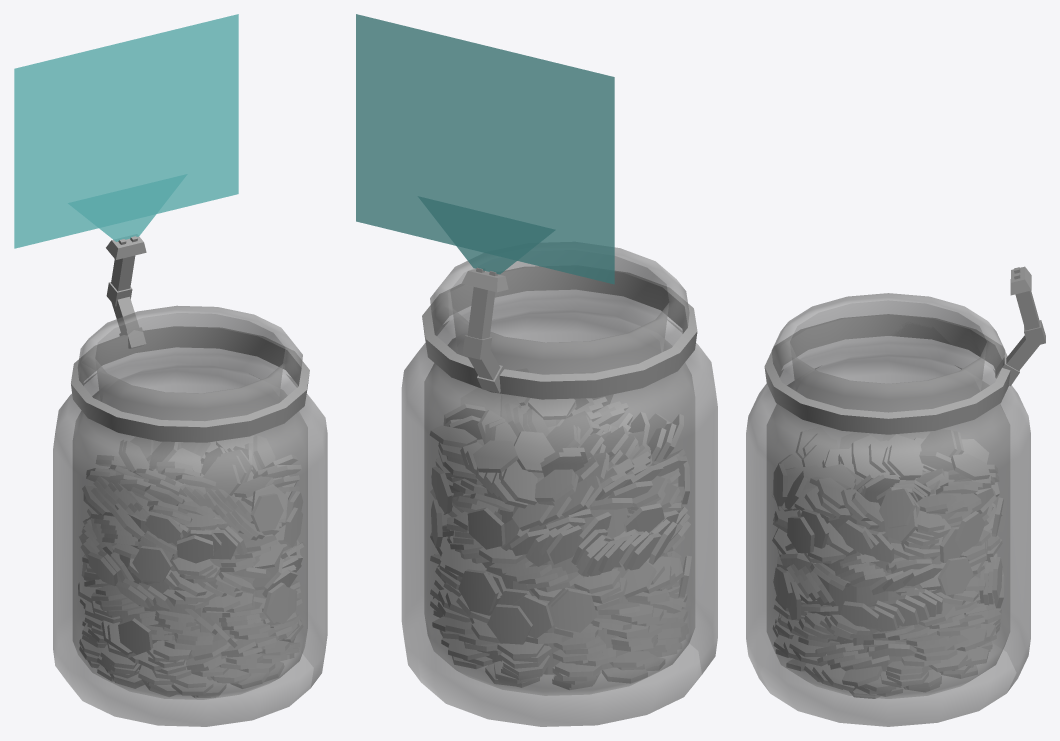
File: UI_TipJar_Medium_001_v001_20202210.fbx
3 views of the same model, side by side, from view 1: azimuth 30°, elevation 25°; view 2: azimuth 150°, elevation 25°; view 3: azimuth 270°, elevation 25° (orthographic). The views are drawn at different scales.
Parts seen in each view (by area): view 1: UI_TipJar_Medium_001_v001, UI_CoinPile_Small_005_v001, UI_CoinPile_Small_004_v001, UI_CoinPile_Small_003_v001, UI_CoinPile_Small_002_v001, UI_CoinPile_Small_001_v001; view 2: UI_TipJar_Medium_001_v001, UI_CoinPile_Small_005_v001, UI_CoinPile_Small_003_v001, UI_CoinPile_Small_004_v001, UI_CoinPile_Small_001_v001, UI_CoinPile_Small_002_v001; view 3: UI_TipJar_Medium_001_v001, UI_CoinPile_Small_005_v001, UI_CoinPile_Small_004_v001, UI_CoinPile_Small_003_v001, UI_CoinPile_Small_002_v001.
Part boxes in pixels (x1,y1,x2,y2): UI_TipJar_Medium_001_v001: [14, 14, 327, 726]; UI_CoinPile_Small_005_v001: [78, 435, 302, 697]; UI_CoinPile_Small_004_v001: [83, 512, 304, 696]; UI_CoinPile_Small_003_v001: [79, 520, 305, 697]; UI_CoinPile_Small_002_v001: [78, 587, 302, 695]; UI_CoinPile_Small_001_v001: [79, 607, 297, 697]; UI_TipJar_Medium_001_v001: [356, 14, 717, 726]; UI_CoinPile_Small_005_v001: [430, 368, 690, 687]; UI_CoinPile_Small_003_v001: [430, 483, 691, 688]; UI_CoinPile_Small_004_v001: [431, 412, 688, 689]; UI_CoinPile_Small_001_v001: [439, 612, 687, 689]; UI_CoinPile_Small_002_v001: [430, 554, 687, 680]; UI_TipJar_Medium_001_v001: [746, 266, 1045, 726]; UI_CoinPile_Small_005_v001: [771, 427, 1003, 694]; UI_CoinPile_Small_004_v001: [772, 454, 1003, 696]; UI_CoinPile_Small_003_v001: [774, 528, 1003, 696]; UI_CoinPile_Small_002_v001: [773, 571, 1001, 698].
Bounding box in the file's own units: 30.57 × 71.37 × 32.18.
